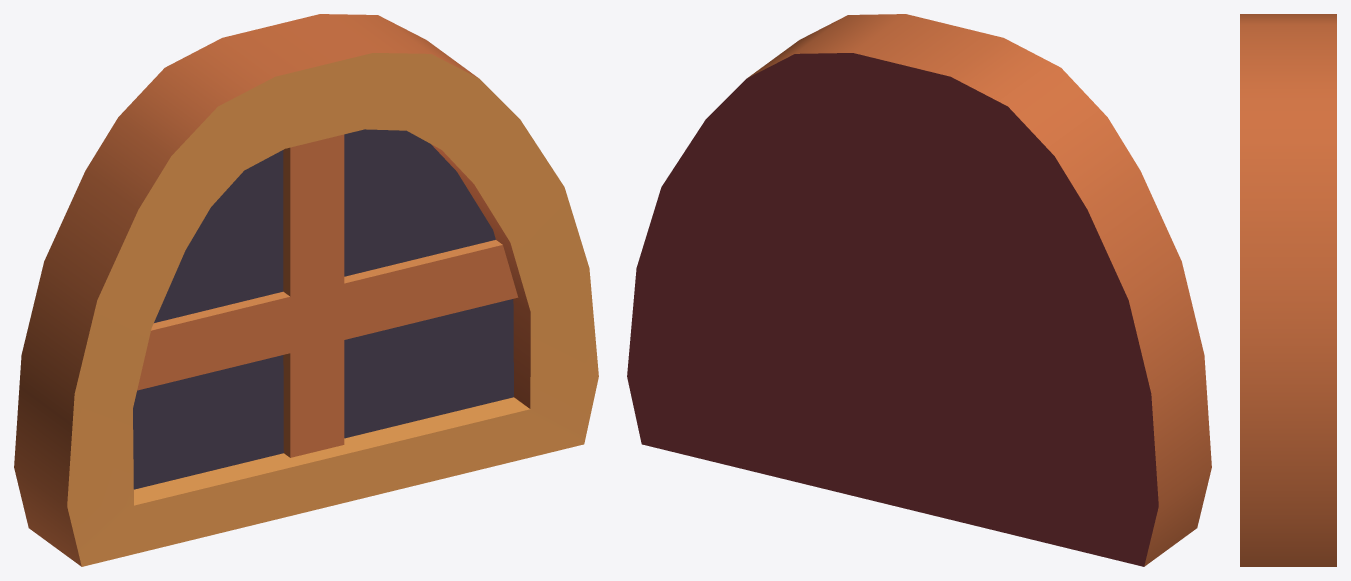
The model's file is Window03_Orange_Wood.glb.
3 renders of one model, left to right at view 1: azimuth 30°, elevation 25°; view 2: azimuth 150°, elevation 25°; view 3: azimuth 270°, elevation 25°, orthographic. The views are drawn at different scales.
Visible parts, largest first — view 1: Window03_Orange_Wood; view 2: Window03_Orange_Wood; view 3: Window03_Orange_Wood.
Boxes of the visible parts, box(x1,y1,x2,y2) form: Window03_Orange_Wood: box(14, 14, 598, 566); Window03_Orange_Wood: box(627, 14, 1211, 566); Window03_Orange_Wood: box(1240, 14, 1336, 566).
Bounding box in the file's own units: 0.9047 × 0.7203 × 0.1565.
1 material, 1 textured.
